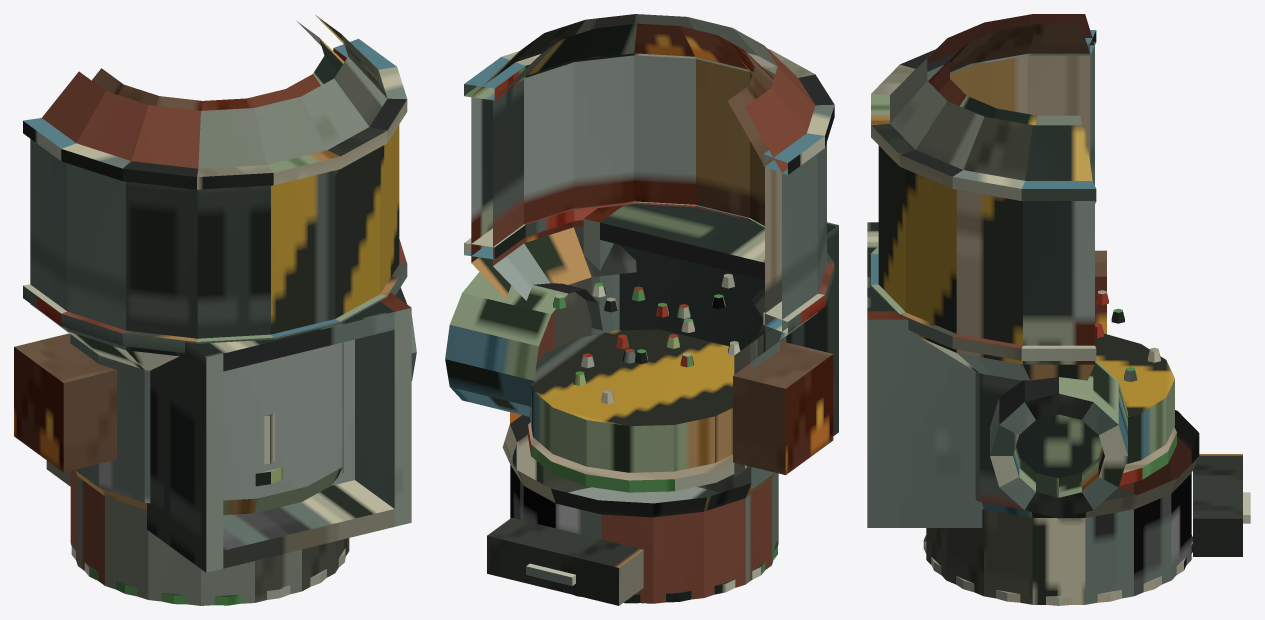
File: fuel_reactor_cutaway.obj
The picture shows the model from 3 angles, left to right: view 1: azimuth 30°, elevation 25°; view 2: azimuth 150°, elevation 25°; view 3: azimuth 270°, elevation 25°; orthographic projection. The views are drawn at different scales.
Visible parts, largest first — view 1: shell, heat_out, windbox, bands, ku_input, lining, carrier_out, bed; view 2: lining, bed, heat_out, windbox, shell, fluid_out, ku_input, bands, ash_drawer, distributor, particles, carrier_out; view 3: shell, windbox, heat_out, fluid_out, lining, bands, bed, ash_drawer, carrier_out, distributor, particles, ku_input.
Part boxes in pixels (x1=…): shell: x1=30, y1=15, x2=399, y2=503; heat_out: x1=147, y1=292, x2=411, y2=572; windbox: x1=70, y1=467, x2=349, y2=605; bands: x1=23, y1=38, x2=407, y2=352; ku_input: x1=14, y1=333, x2=116, y2=472; lining: x1=92, y1=21, x2=344, y2=110; carrier_out: x1=71, y1=541, x2=345, y2=605; bed: x1=264, y1=413, x2=274, y2=464; lining: x1=493, y1=23, x2=781, y2=477; bed: x1=530, y1=329, x2=734, y2=472; heat_out: x1=583, y1=204, x2=838, y2=435; windbox: x1=502, y1=415, x2=778, y2=603; shell: x1=471, y1=14, x2=826, y2=489; fluid_out: x1=445, y1=272, x2=602, y2=416; ku_input: x1=733, y1=341, x2=833, y2=475; bands: x1=464, y1=49, x2=834, y2=333; ash_drawer: x1=487, y1=517, x2=643, y2=605; distributor: x1=528, y1=422, x2=746, y2=492; particles: x1=553, y1=273, x2=740, y2=404; carrier_out: x1=568, y1=487, x2=777, y2=603; shell: x1=878, y1=14, x2=1094, y2=509; windbox: x1=926, y1=410, x2=1199, y2=604; heat_out: x1=867, y1=222, x2=982, y2=527; fluid_out: x1=990, y1=361, x2=1127, y2=518; lining: x1=928, y1=23, x2=1090, y2=162; bands: x1=871, y1=30, x2=1096, y2=360; bed: x1=1095, y1=333, x2=1174, y2=464; ash_drawer: x1=1193, y1=454, x2=1250, y2=556; carrier_out: x1=923, y1=489, x2=1192, y2=605; distributor: x1=1119, y1=427, x2=1176, y2=486; particles: x1=1095, y1=290, x2=1160, y2=381; ku_input: x1=1095, y1=250, x2=1106, y2=334.
Size of the model in its own units: 1 by 1.38 by 1.
Materials: 1 (1 with a texture image).
